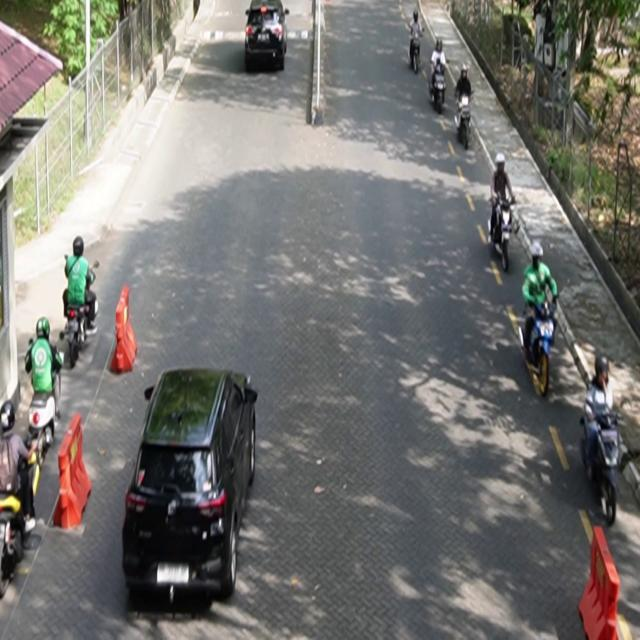car: (122, 367, 259, 606), (245, 1, 290, 72)
